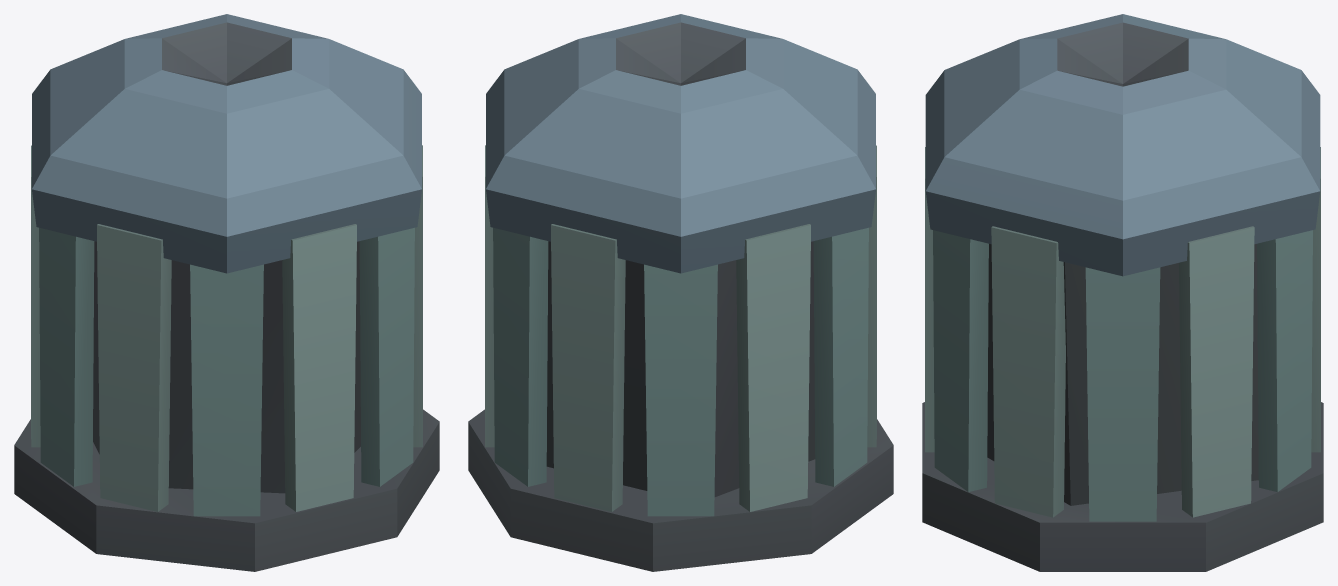
Rendered from bin.lod1.glb.
3 renders of one model, left to right at view 1: azimuth 30°, elevation 25°; view 2: azimuth 150°, elevation 25°; view 3: azimuth 270°, elevation 25°, orthographic.
Size of the model in its own units: 0.84 by 0.88 by 0.7392.
